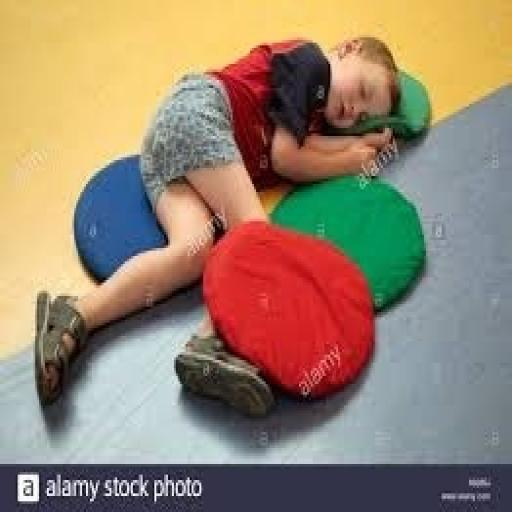sleeping: (31, 29, 426, 419)
